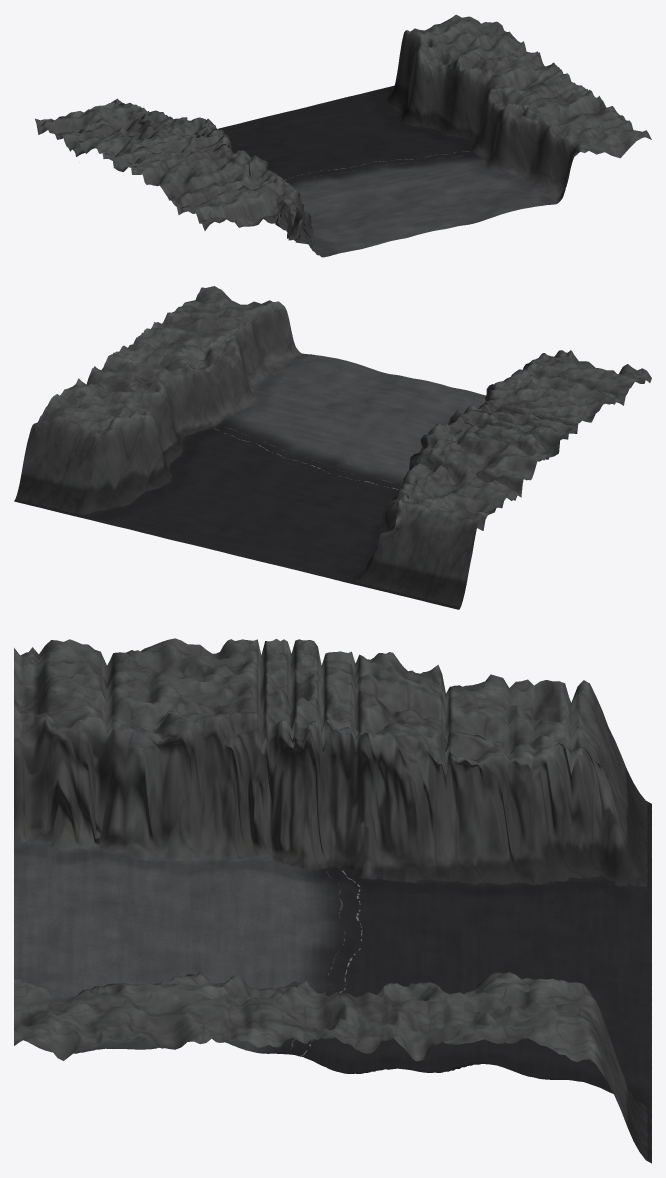
File: beach-v2.glb
3 views of the same model, one above another, from view 1: azimuth 30°, elevation 25°; view 2: azimuth 150°, elevation 25°; view 3: azimuth 270°, elevation 25° (orthographic). The views are drawn at different scales.
Size of the model in its own units: 120 by 25.83 by 90.
Materials: 2 (2 with a texture image).
